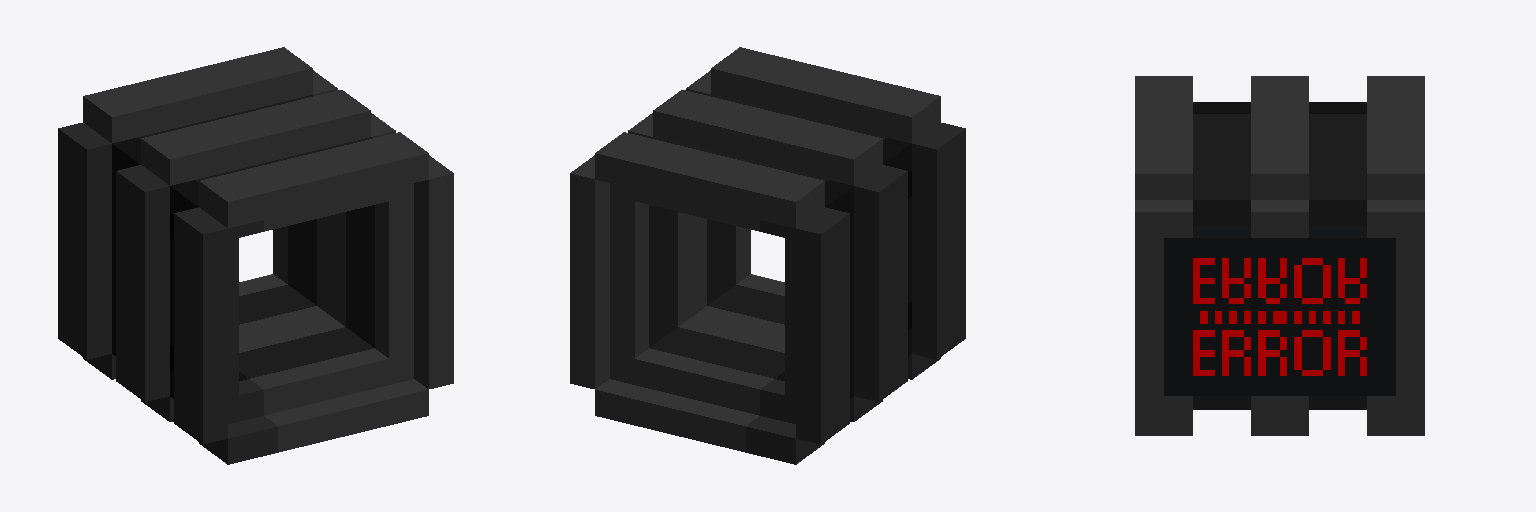
The picture shows the model from 3 angles: view 1: azimuth 30°, elevation 25°; view 2: azimuth 150°, elevation 25°; view 3: azimuth 270°, elevation 25°; orthographic projection.
Visible parts, largest first — view 1: object 1; view 2: object 1; view 3: object 1.
Boxes of the visible parts, <box> form: object 1: <box>58,47,453,464</box>; object 1: <box>570,47,965,464</box>; object 1: <box>1135,76,1424,435</box>.
Bounding box in the file's own units: 4 × 4 × 4.
1 materials, 1 textured.